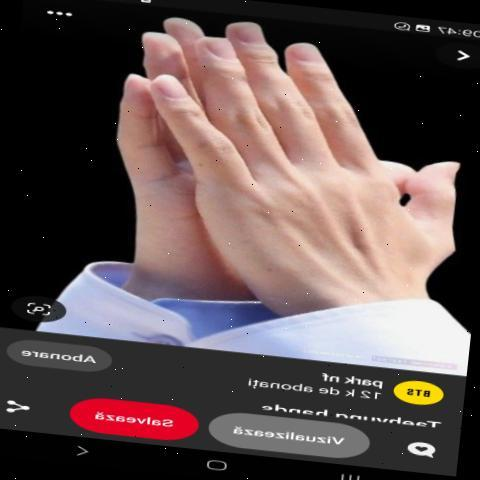Hands: (139, 20, 472, 312)
